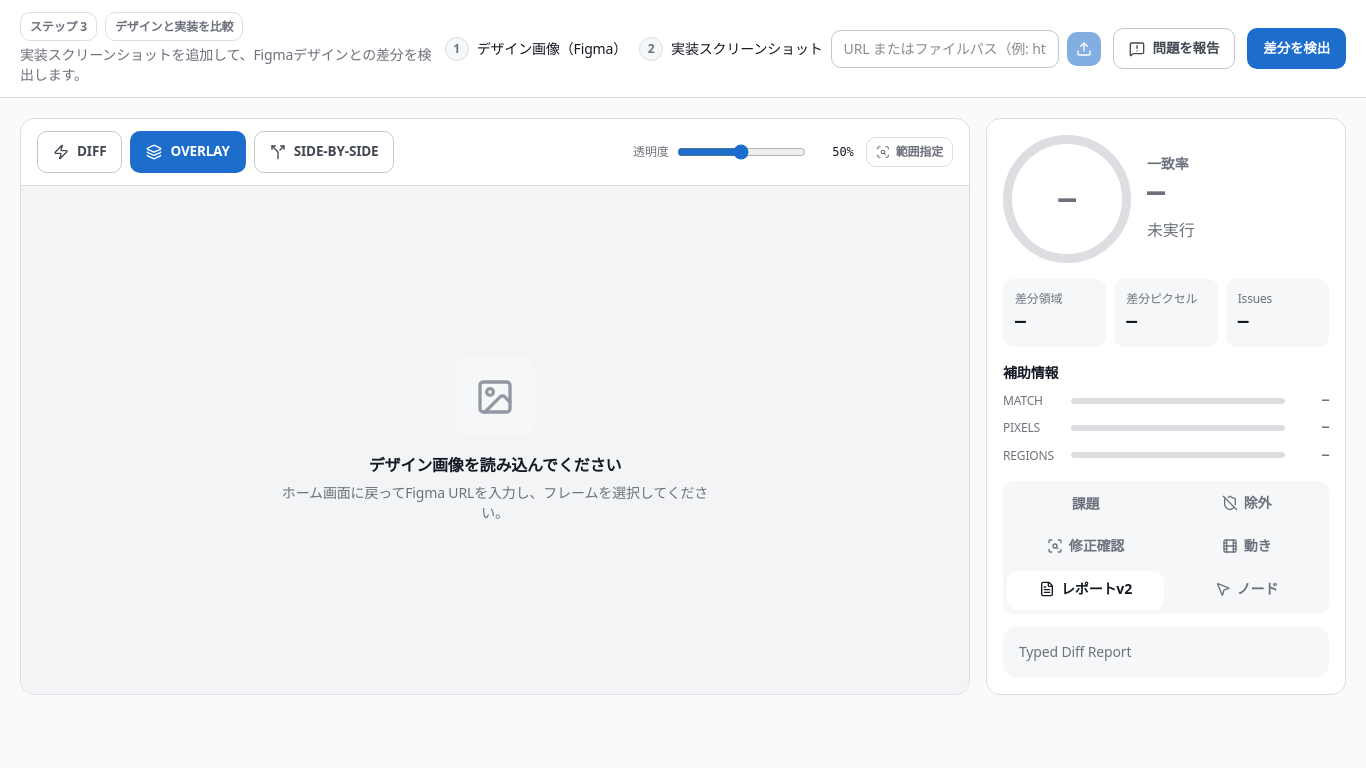
Test: ComparePage › アニメーション比較タブから時系列入力へ到達できる
Step 1. Click the button "動き" → (1246, 547), box [1168,528,1325,567]
(page scrolled)
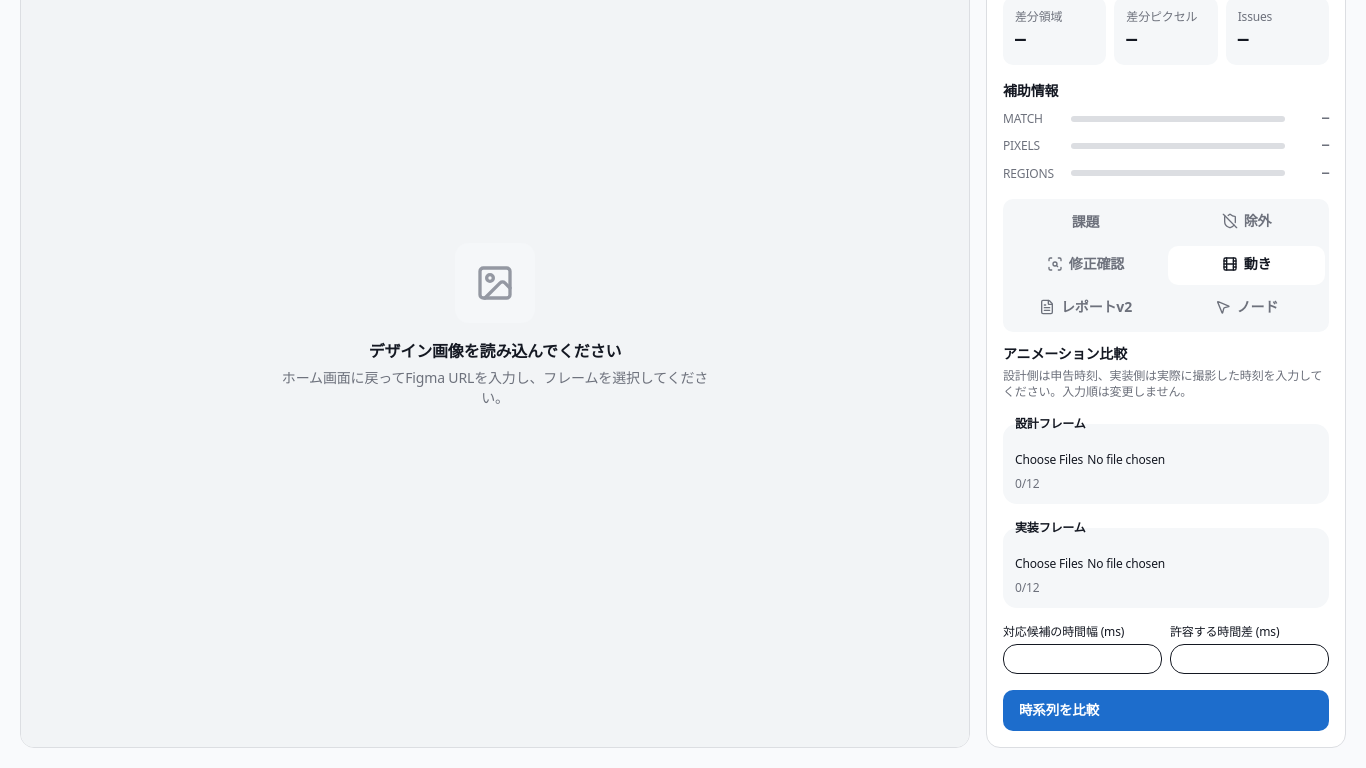
Now the heading "アニメーション比較" is shown, box [1003,344,1127,363]
Now the file field named "設計フレームを追加" is shown, box [1015,452,1317,468]
Now the file field named "実装フレームを追加" is shown, box [1015,556,1317,572]
